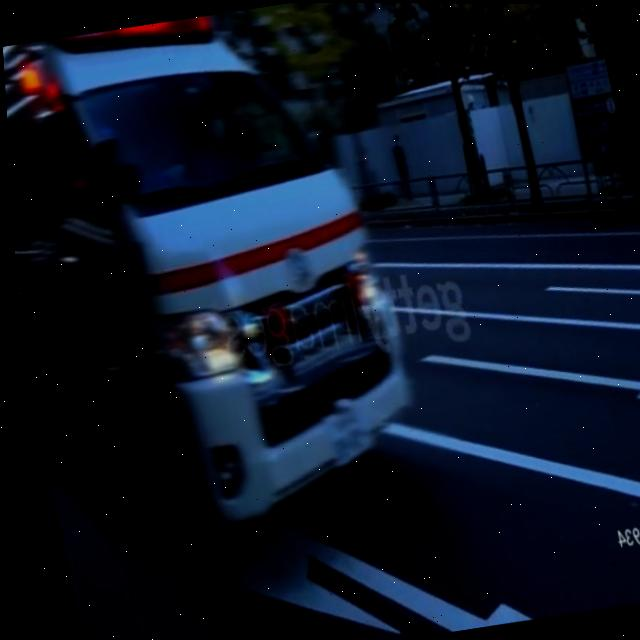emergency: (29, 0, 436, 545)
